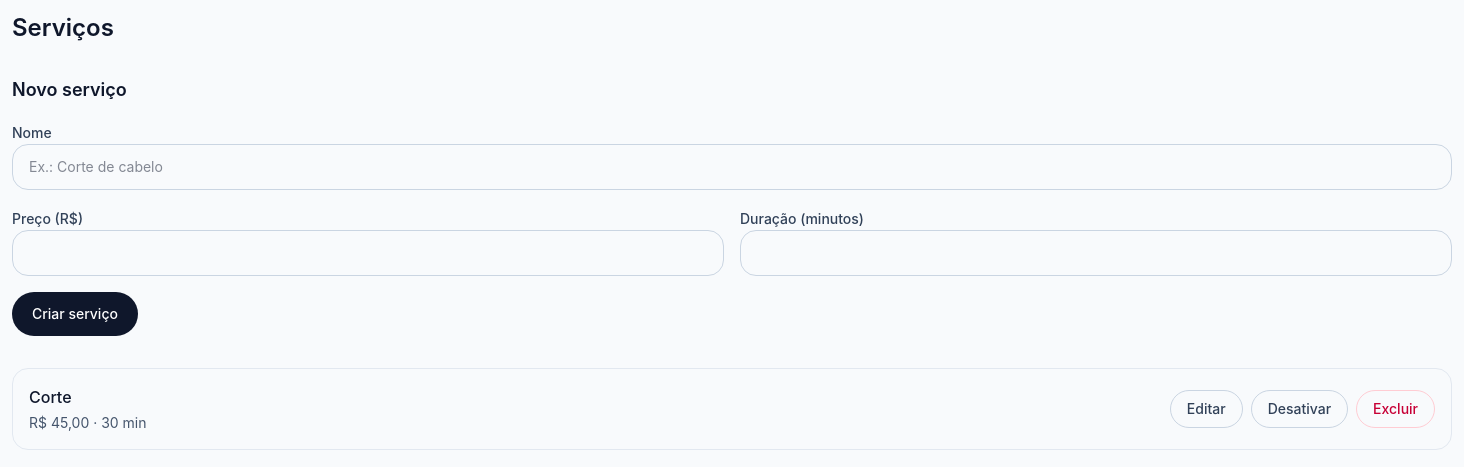
Test case: services manager (mounted, injected fetch deps) › deletes a service without conflicts: removes it and shows the empty state
Click the button "Excluir": [1396, 409] box [1356,390,1435,428]
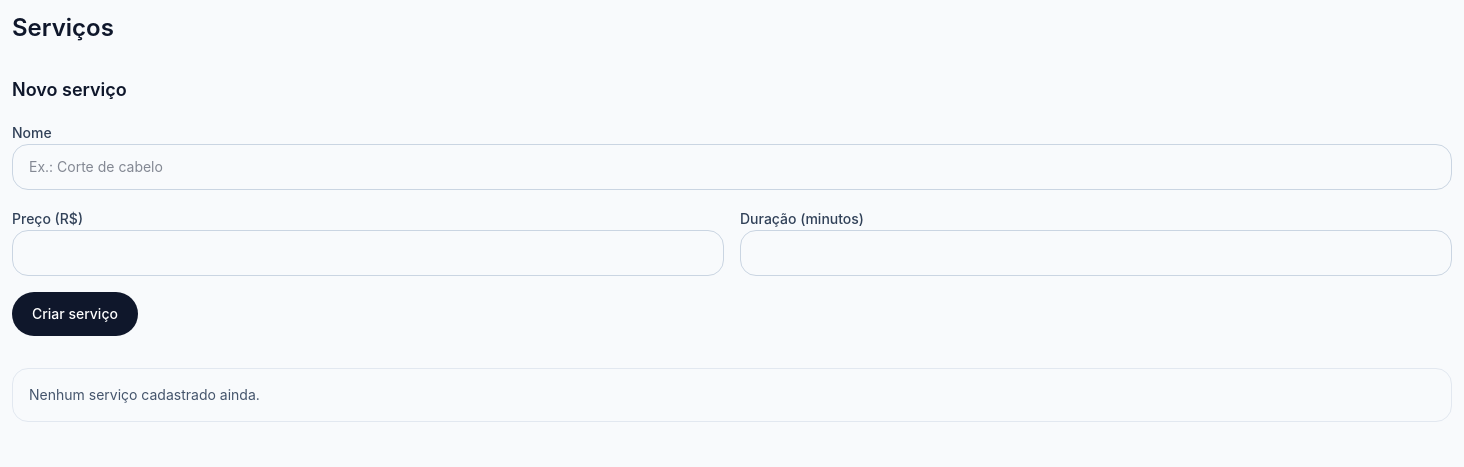
Check: the text "Nenhum serviço cadastrado ainda." is shown, box [12,368,1452,422]
